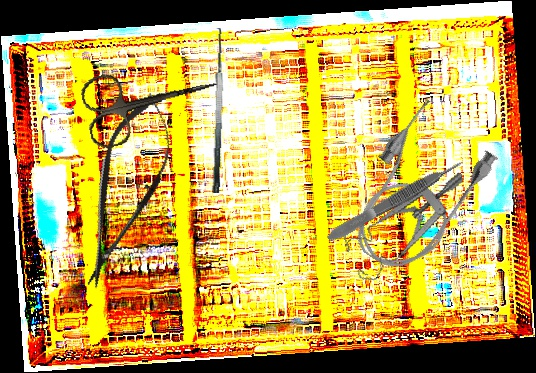Cannula: (330, 93, 505, 287)
Iris Scissors: (78, 50, 228, 151)
Micro Scissor: (61, 81, 190, 299)
Spatula Surgical: (198, 27, 229, 193)
Speculum: (334, 171, 484, 286)
Tissue Forceps: (324, 156, 467, 245)
